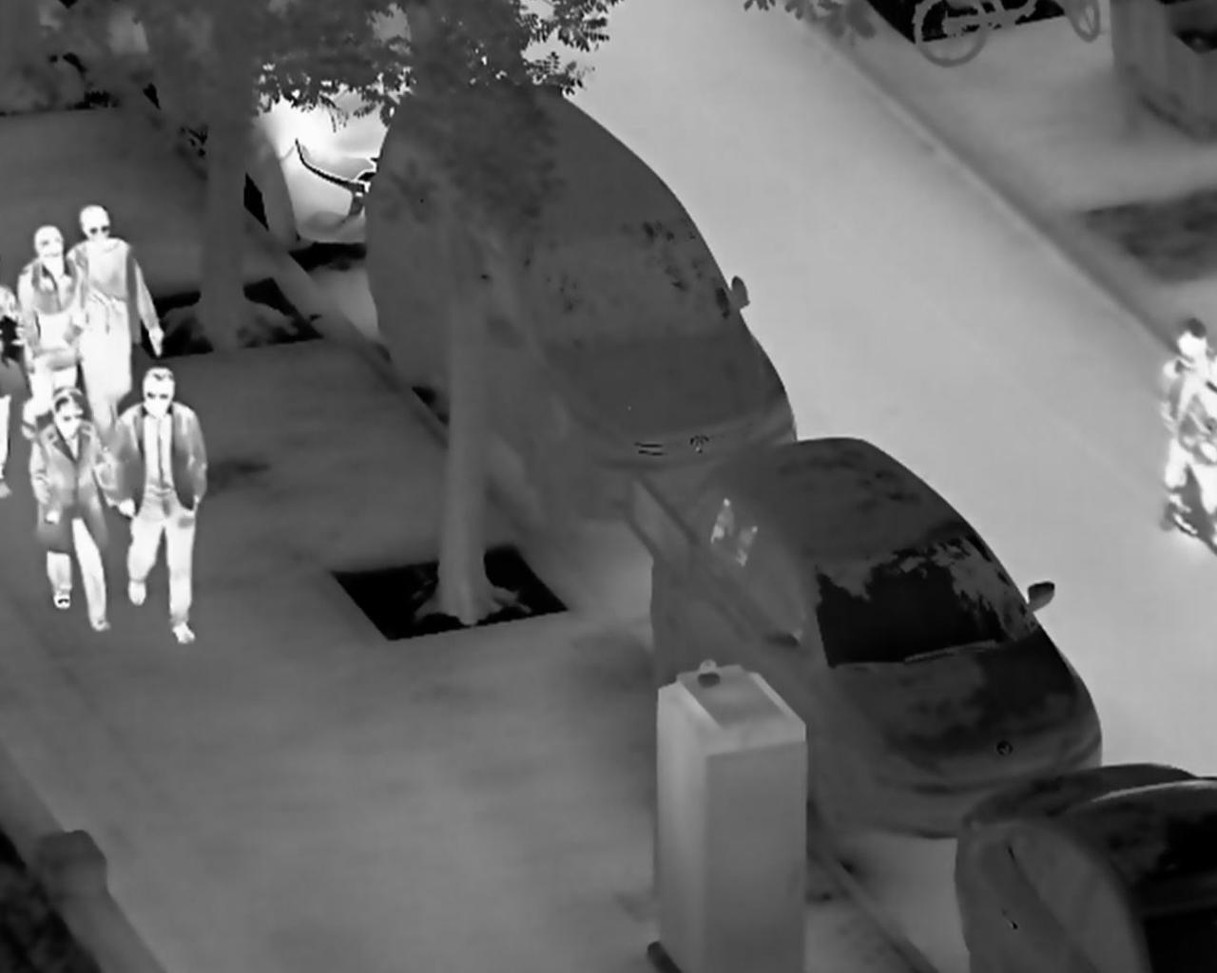person: (108, 363, 202, 645), (71, 201, 165, 436), (29, 387, 116, 632), (19, 225, 83, 436), (1159, 315, 1216, 531)
